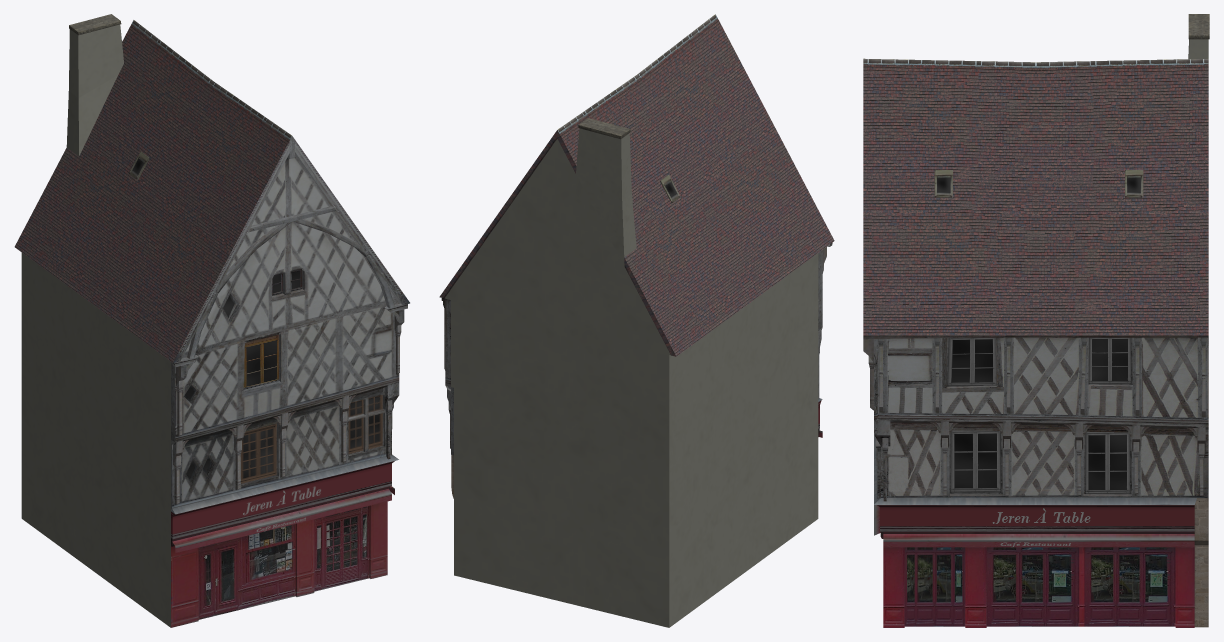
File: bourges_corner_shop_1_france.glb
3 views of the same model, side by side, from view 1: azimuth 30°, elevation 25°; view 2: azimuth 150°, elevation 25°; view 3: azimuth 270°, elevation 25° (orthographic). The views are drawn at different scales.
Visible parts, largest first — view 1: corner; view 2: corner; view 3: corner.
Part boxes in pixels (x1,y1,x2,y2): corner: (14, 14, 409, 627); corner: (439, 14, 834, 627); corner: (863, 14, 1209, 627).
Bounding box in the file's own units: 8.48 × 16.45 × 9.83.
1 material, 1 textured.
